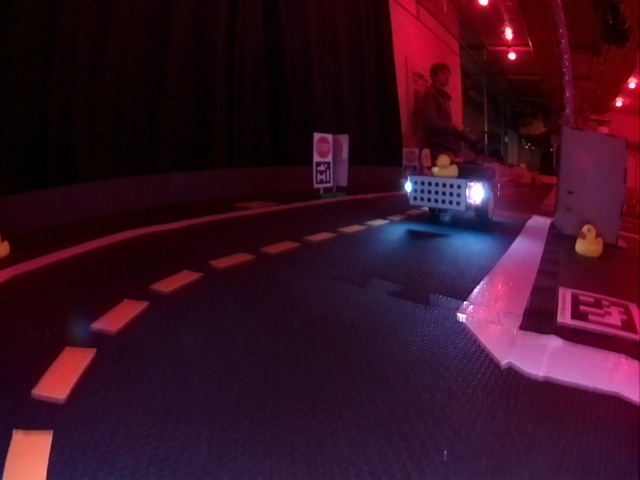Duckie: (578, 224, 605, 257), (433, 154, 459, 177)
Duckiebot: (404, 171, 496, 221)
QR code: (555, 285, 639, 339), (316, 162, 333, 186)
Stop sign: (315, 134, 333, 159)
